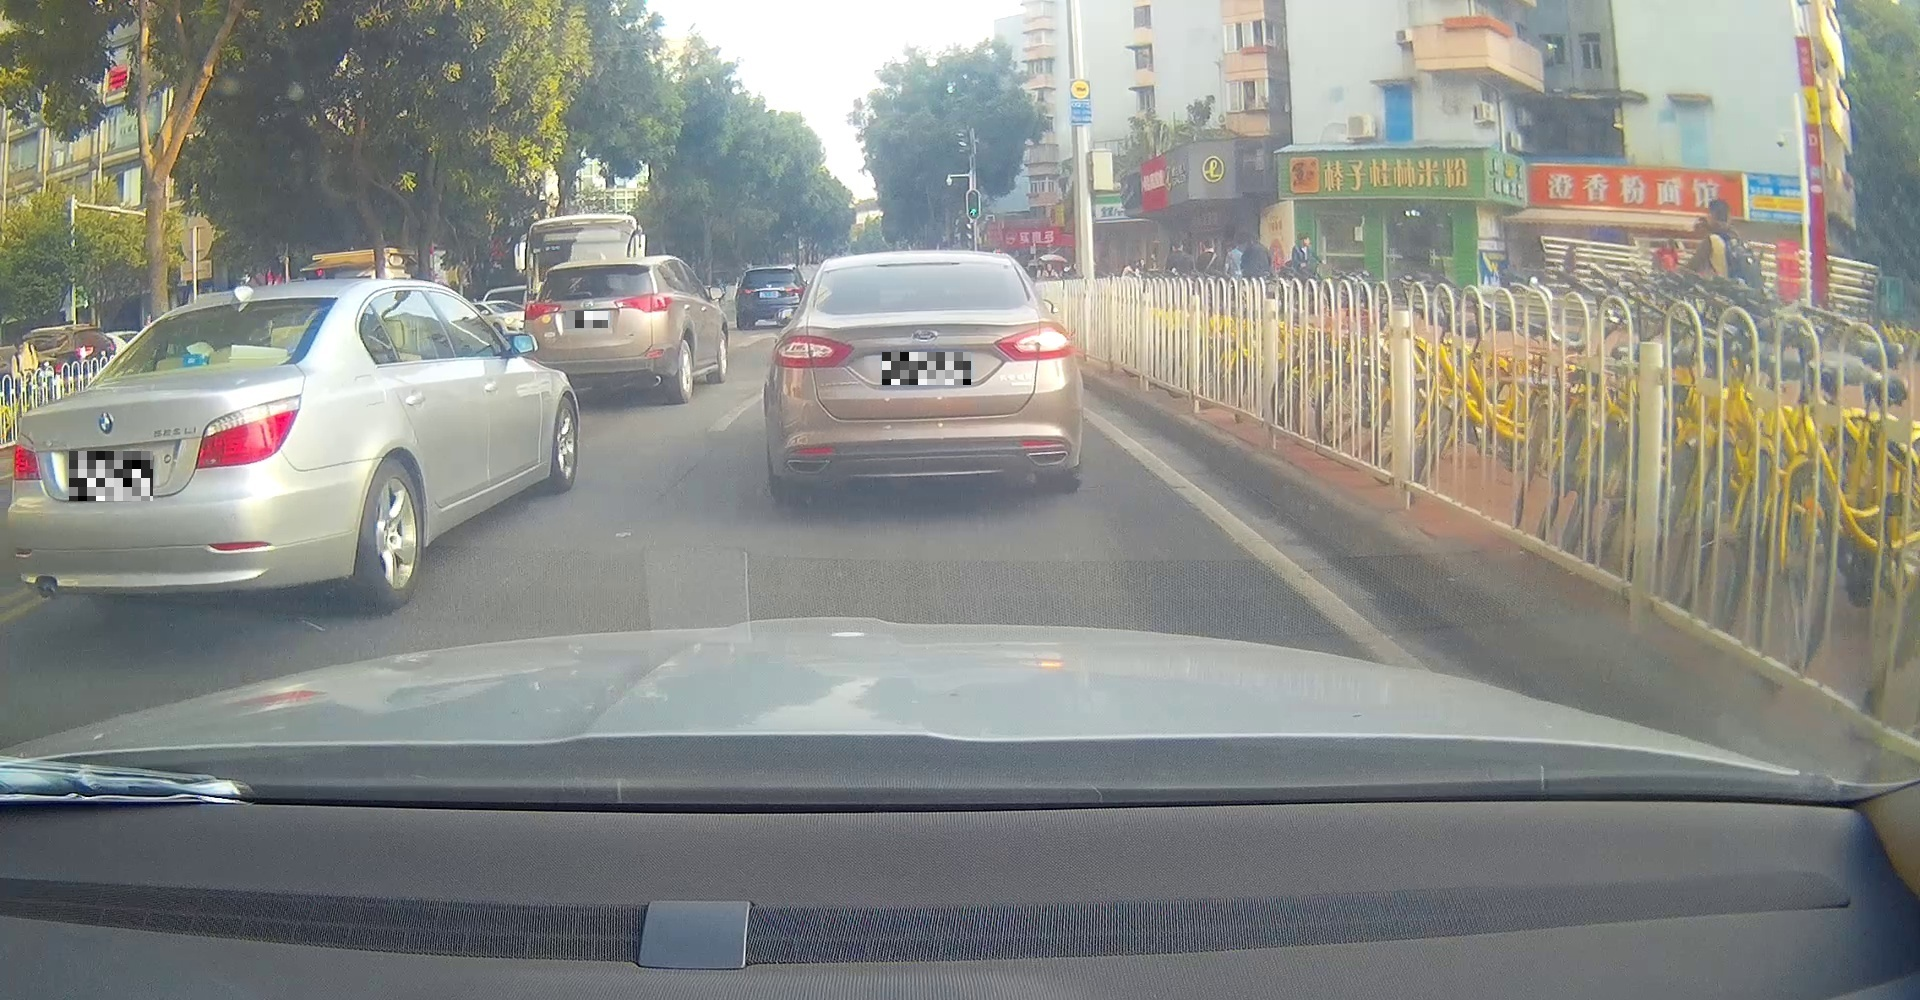L_light: (771, 332, 855, 368), (11, 435, 43, 481), (524, 301, 561, 321)
R_light: (196, 395, 302, 468), (993, 324, 1076, 363), (615, 292, 672, 312)
T_light: (213, 301, 258, 315), (888, 263, 943, 272), (582, 269, 604, 274)
day-no: (8, 277, 338, 618), (770, 250, 1081, 503), (522, 258, 677, 405)
plate_1: (69, 451, 152, 501)
plate_2: (566, 311, 608, 327)
plate_3: (883, 352, 971, 385)
